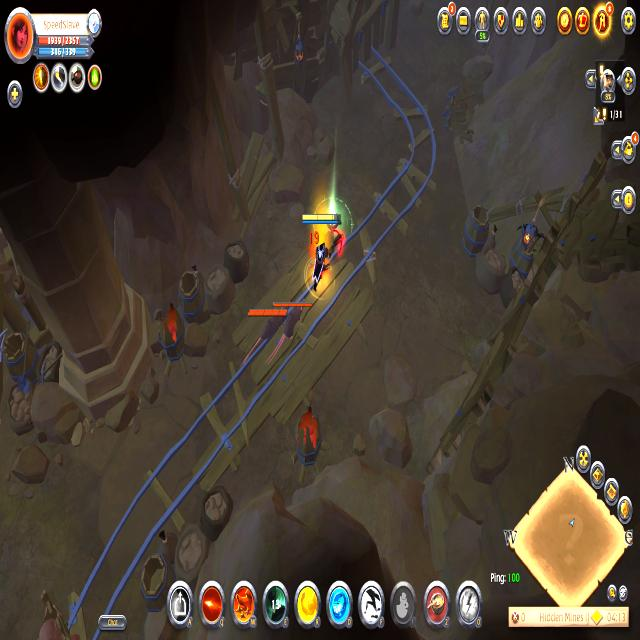ore: (243, 299, 289, 362), (267, 302, 311, 349)
red: (299, 206, 348, 300)
